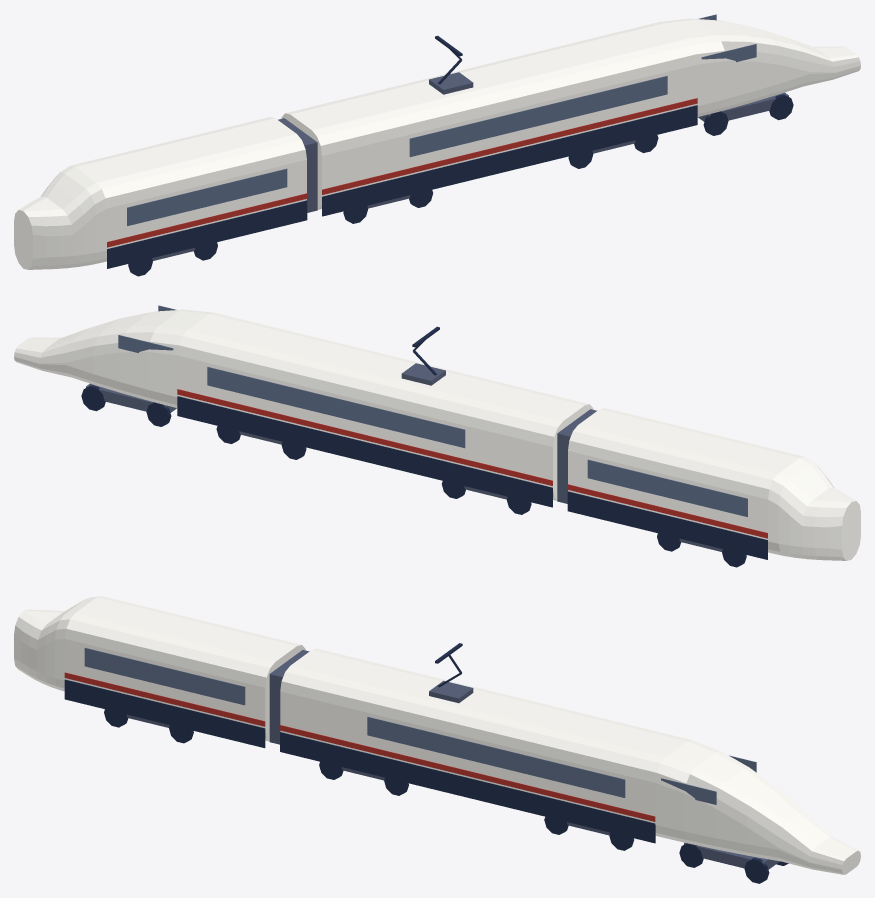
The model's file is train-hs.glb.
3 renders of one model, top to bottom at view 1: azimuth 30°, elevation 25°; view 2: azimuth 150°, elevation 25°; view 3: azimuth 330°, elevation 25°, orthographic.
Parts seen in each view (by area): view 1: model; view 2: model; view 3: model.
Boxes of the visible parts, x1,y1,x2,y2 form: model: [14, 14, 860, 276]; model: [14, 305, 860, 567]; model: [14, 596, 860, 883].
Size of the model in its own units: 33.1 by 5.46 by 2.95.
